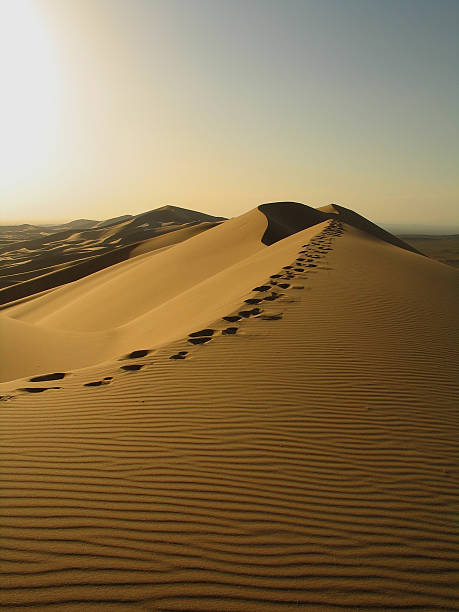human_footprint: (187, 328, 214, 344), (29, 372, 65, 381), (18, 386, 60, 393), (84, 376, 112, 386), (123, 349, 150, 358), (189, 328, 214, 337), (238, 308, 261, 317), (169, 350, 187, 359), (188, 337, 211, 344), (260, 313, 282, 320), (264, 292, 283, 300), (120, 364, 144, 370), (221, 326, 237, 334), (252, 284, 270, 291), (222, 315, 241, 321), (244, 298, 262, 304)
